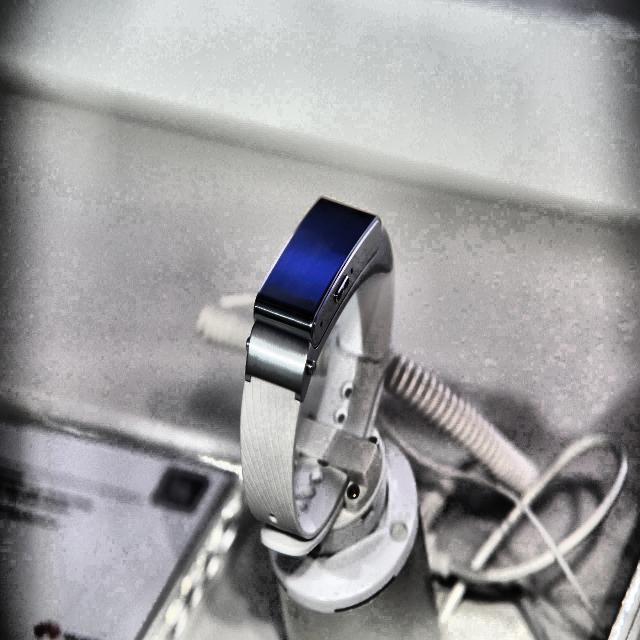Electronic watch: (241, 198, 393, 542)
